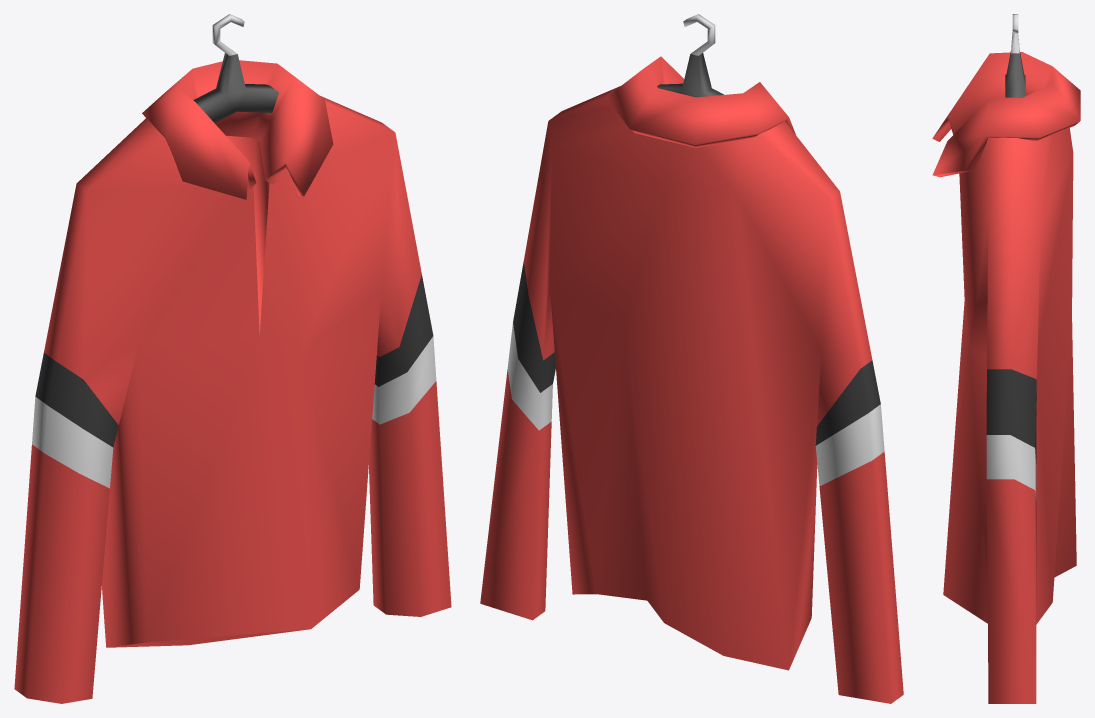
The model's file is clothes_006.glb.
3 renders of one model, left to right at view 1: azimuth 30°, elevation 25°; view 2: azimuth 150°, elevation 25°; view 3: azimuth 270°, elevation 25°, orthographic. The views are drawn at different scales.
Visible parts, largest first — view 1: clothes_006; view 2: clothes_006; view 3: clothes_006.
Boxes of the visible parts, x1,y1,x2,y2 form: clothes_006: (14, 14, 451, 703); clothes_006: (480, 14, 903, 703); clothes_006: (932, 14, 1080, 703).
Bounding box in the file's own units: 0.6414 × 0.9466 × 0.2131.
1 material, 1 textured.
